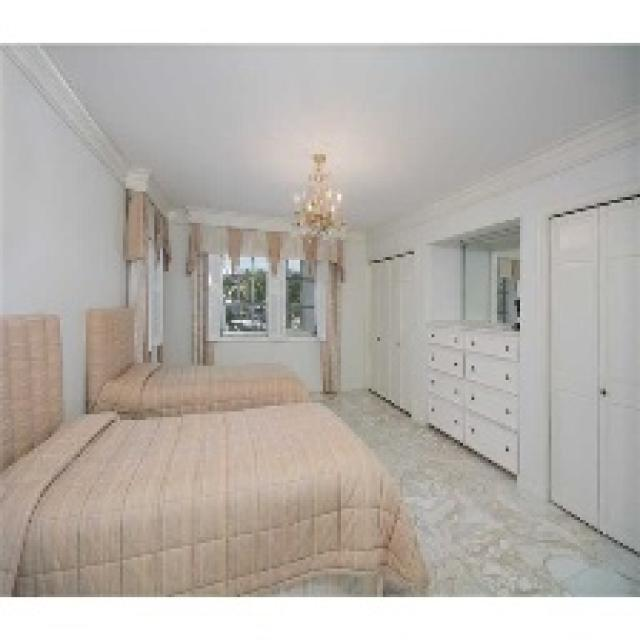Bed: (0, 312, 429, 594), (83, 306, 311, 417)
